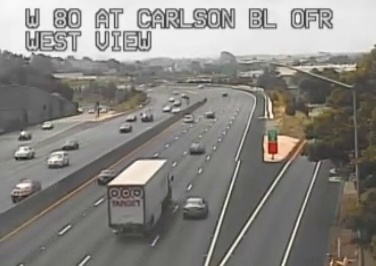car: (183, 197, 206, 217), (99, 169, 116, 184)
truck: (106, 158, 171, 236)
